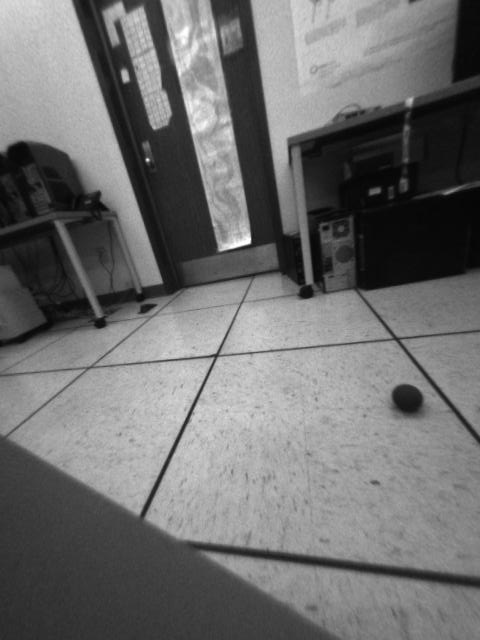dogtoy: (384, 377, 434, 417)
